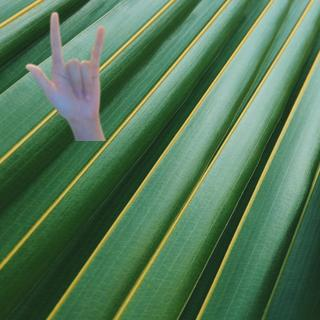ILY: (18, 8, 110, 123)
